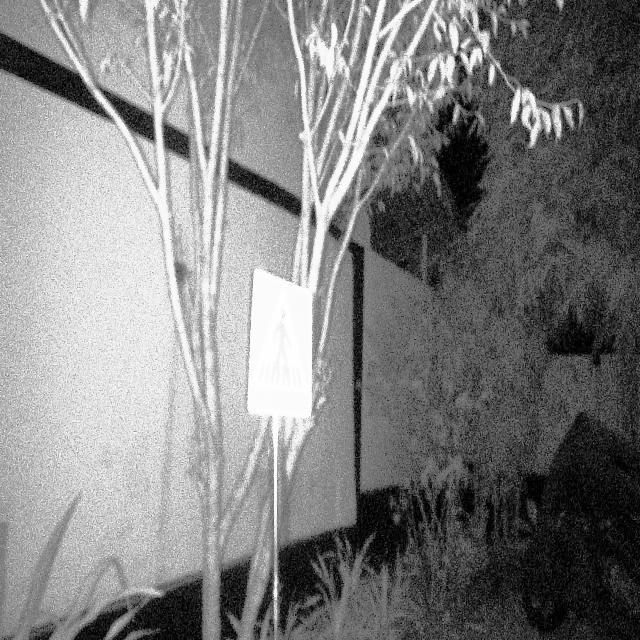Sign: (246, 267, 315, 422)
Tree: (134, 1, 256, 639), (286, 3, 400, 279)
